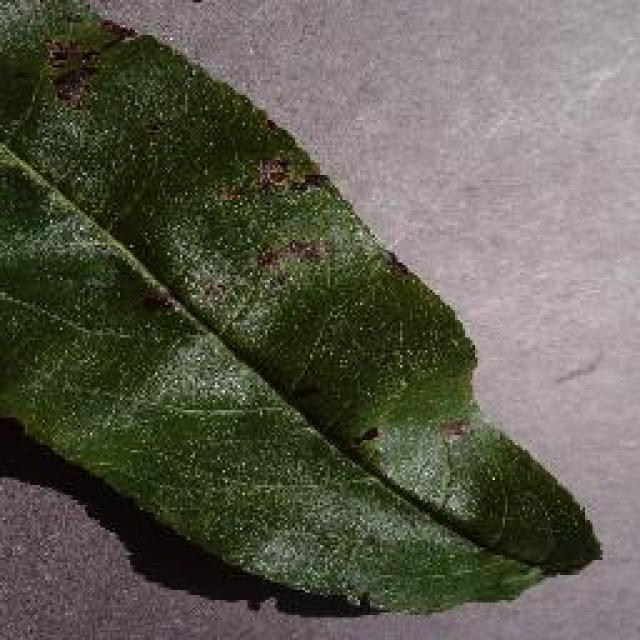Pea_Bacterial_spot: (199, 148, 356, 304), (12, 0, 160, 120), (418, 388, 487, 453)
